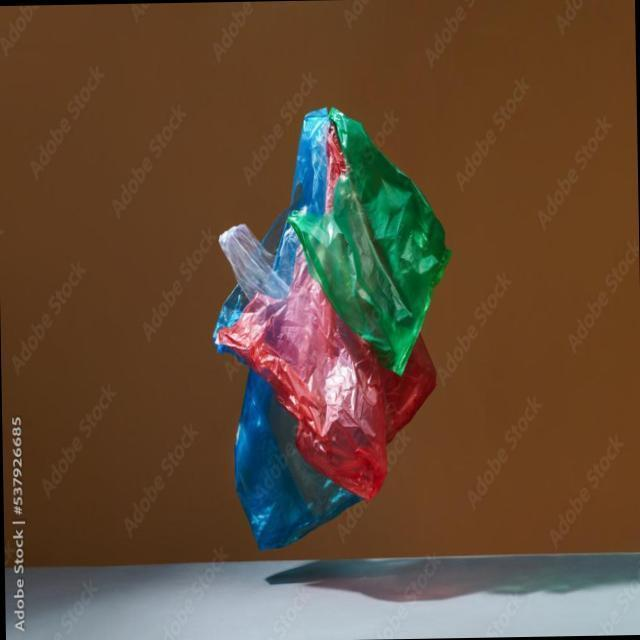Plastic_Bag: (208, 96, 454, 563)
